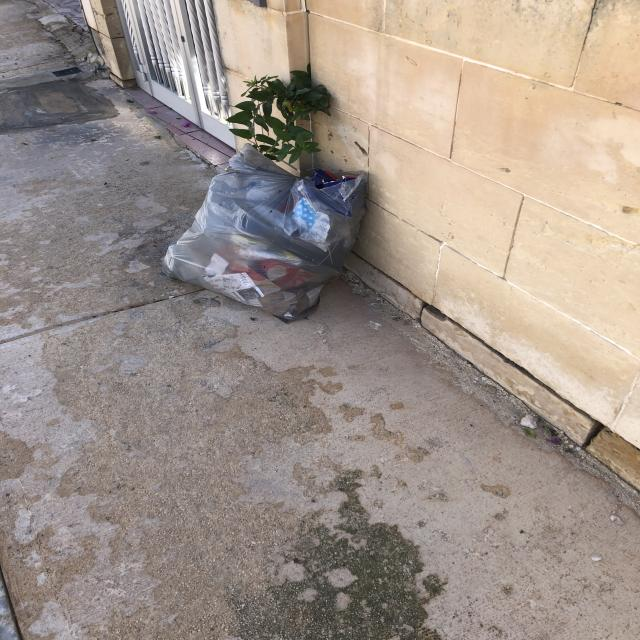Recycled Waste -Grey or Green Bag-: (164, 143, 369, 325)
